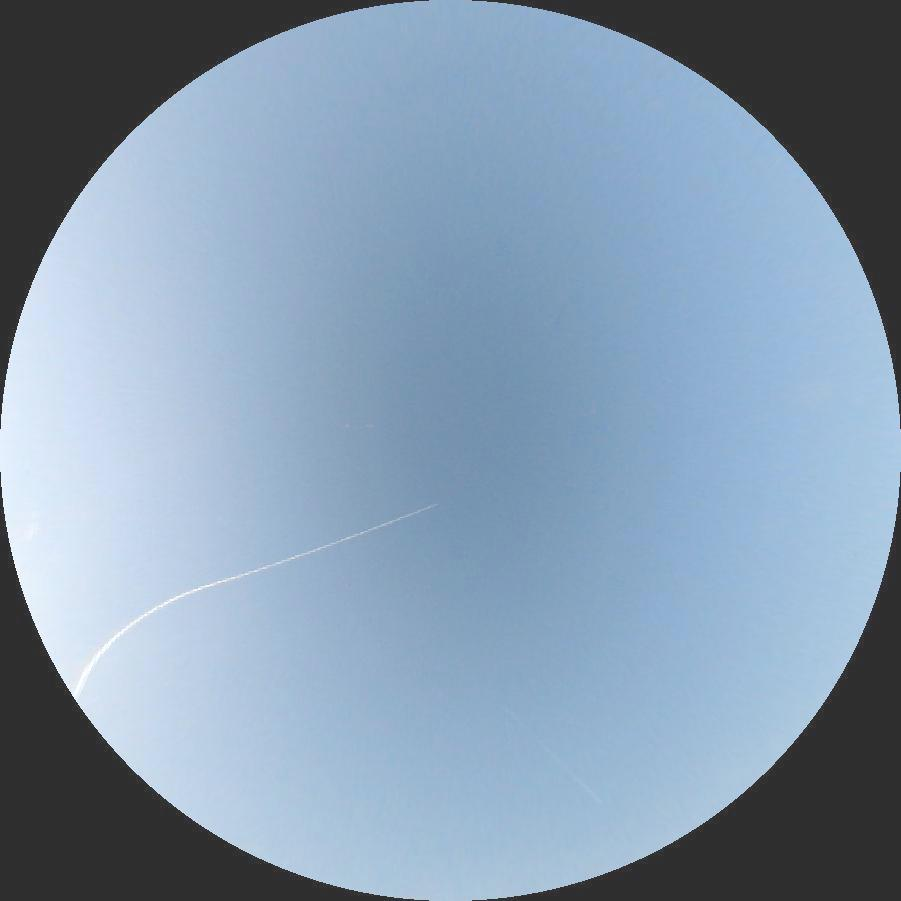contrail young: (55, 462, 440, 703), (501, 704, 604, 806)
